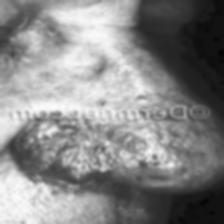Non-Cancerous Skin Condition: (0, 117, 224, 224), (0, 22, 197, 107)
